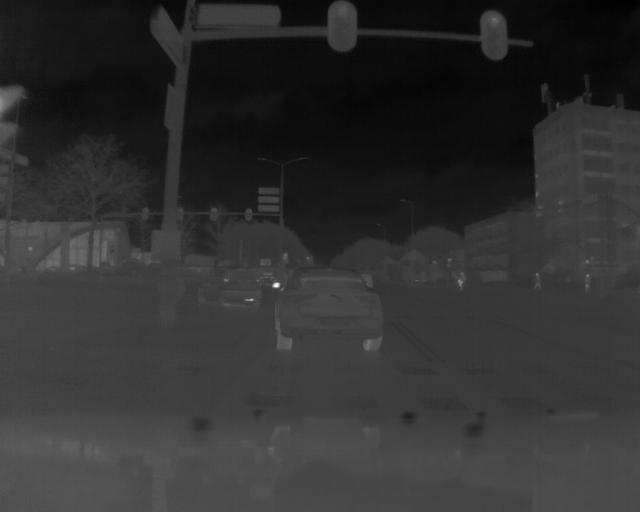car: (269, 266, 387, 357), (197, 265, 262, 310)
person: (453, 268, 467, 292)
